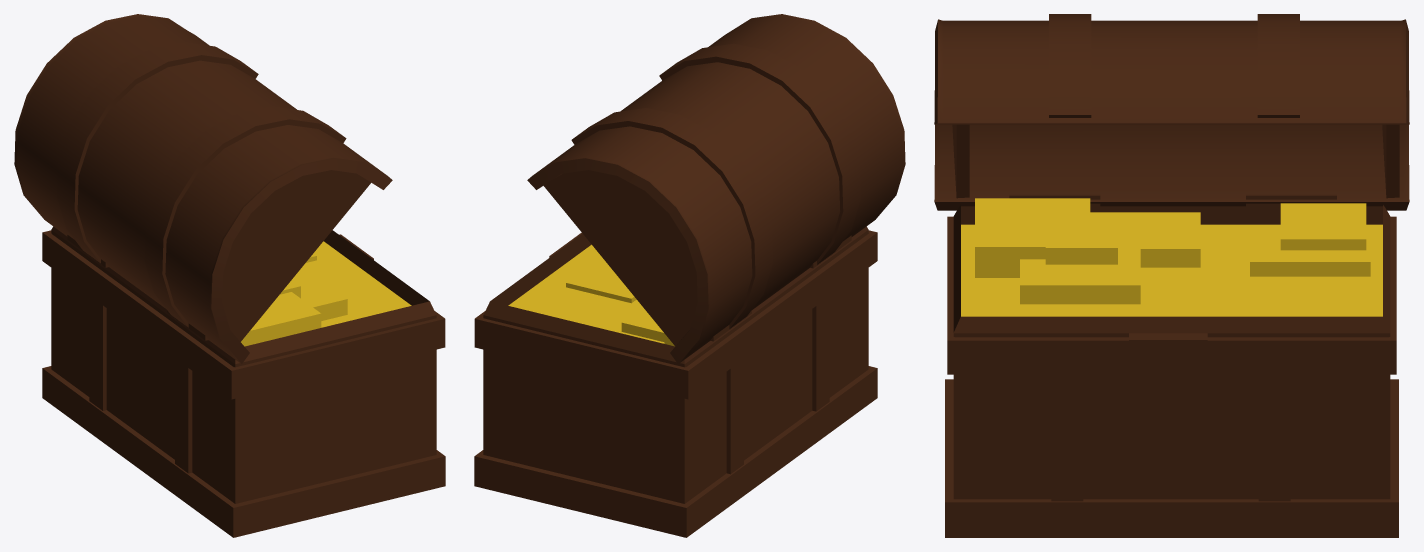
Rendered from Chest.gltf.
3 renders of one model, left to right at view 1: azimuth 30°, elevation 25°; view 2: azimuth 150°, elevation 25°; view 3: azimuth 270°, elevation 25°, orthographic. The views are drawn at different scales.
Parts seen in each view (by area): view 1: chest1_pCube11; view 2: chest1_pCube11; view 3: chest1_pCube11.
Part boxes in pixels (x1=…): chest1_pCube11: x1=14, y1=14, x2=445, y2=537; chest1_pCube11: x1=474, y1=14, x2=905, y2=537; chest1_pCube11: x1=934, y1=14, x2=1409, y2=537.
Bounding box in the file's own units: 2.73 × 3.87 × 3.86.
